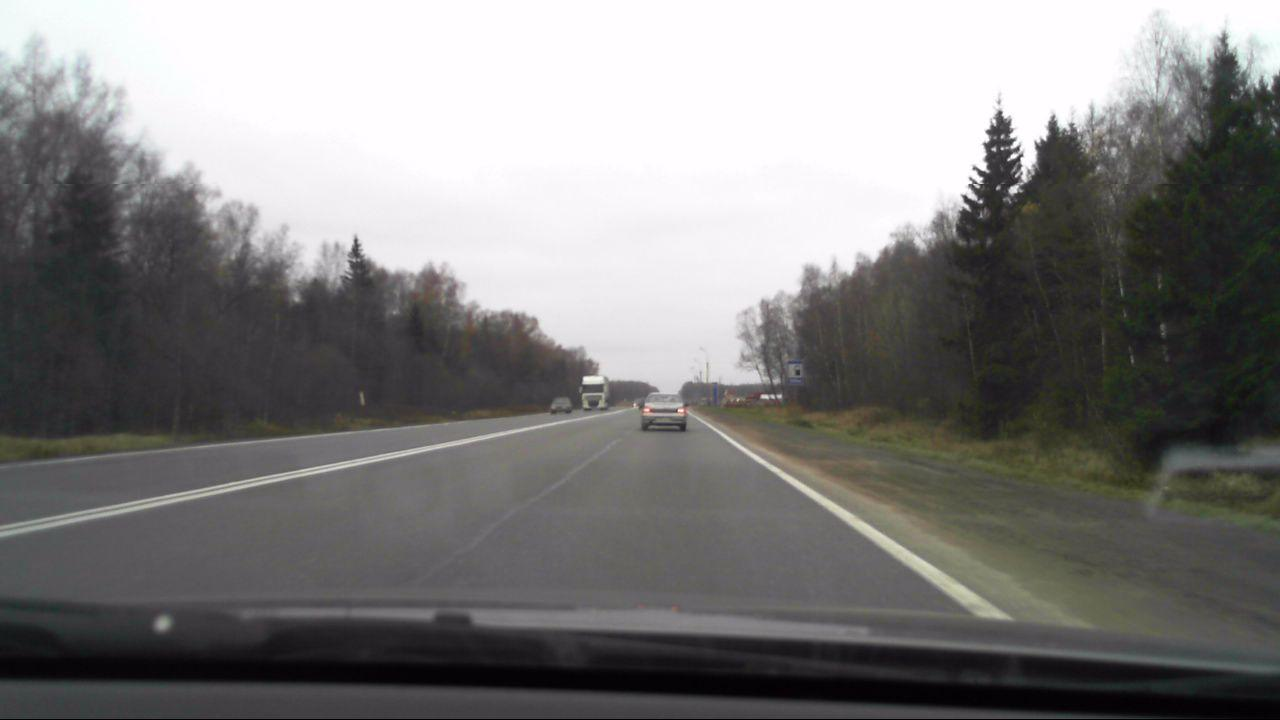7_3: (783, 358, 803, 380)
